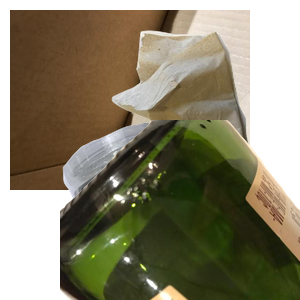cardboard: (10, 10, 250, 190)
glass: (60, 120, 300, 300)
plastic: (60, 120, 300, 300)
trash: (109, 28, 300, 208)
